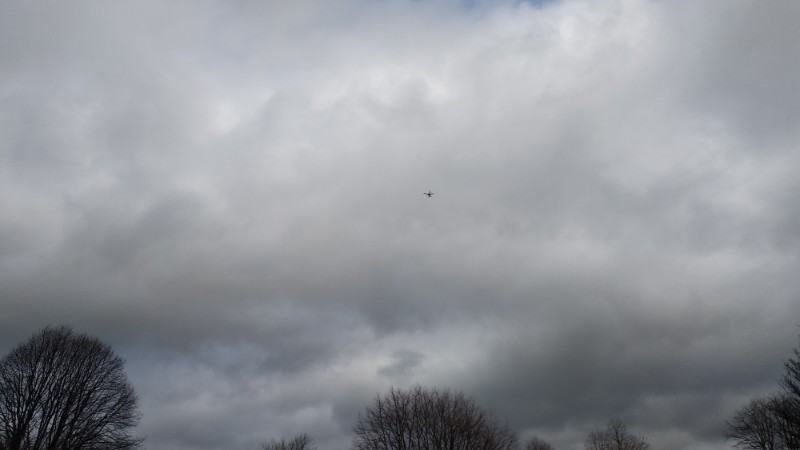drone: (423, 190, 433, 197)
